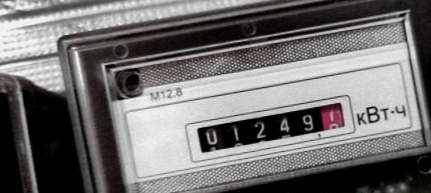0: (202, 126, 217, 148)
1: (227, 123, 239, 143)
2: (250, 120, 266, 141)
4: (275, 116, 289, 136)
7: (322, 104, 336, 125)
9: (298, 112, 314, 135)
screen: (174, 95, 354, 163)
